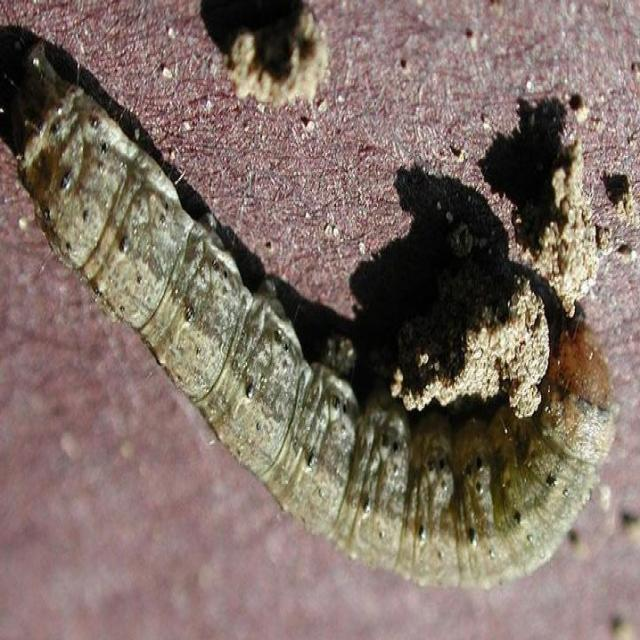black cutworm: (12, 67, 616, 597)
